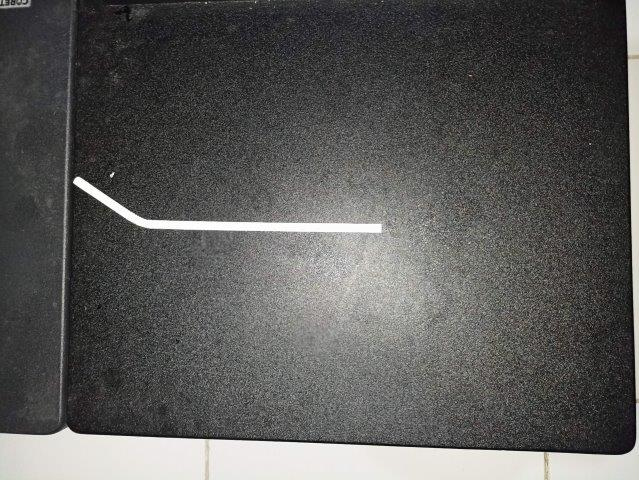sedotan: (73, 176, 382, 232)
